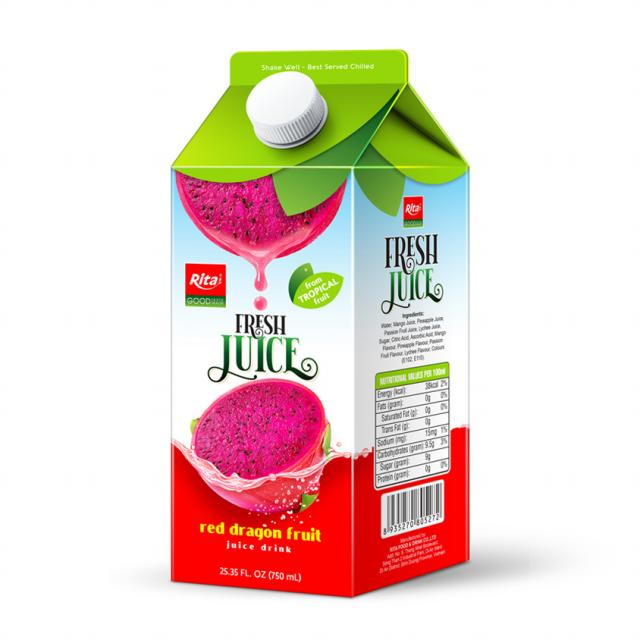non_white_jug: (154, 37, 488, 598)
